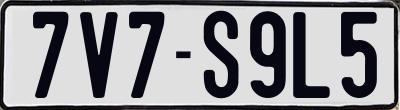5: (341, 9, 382, 99)
7: (31, 9, 72, 96), (129, 10, 169, 98)
9: (248, 9, 289, 101)
L: (293, 12, 330, 102)
S: (202, 8, 239, 99)
V: (79, 10, 120, 101)
